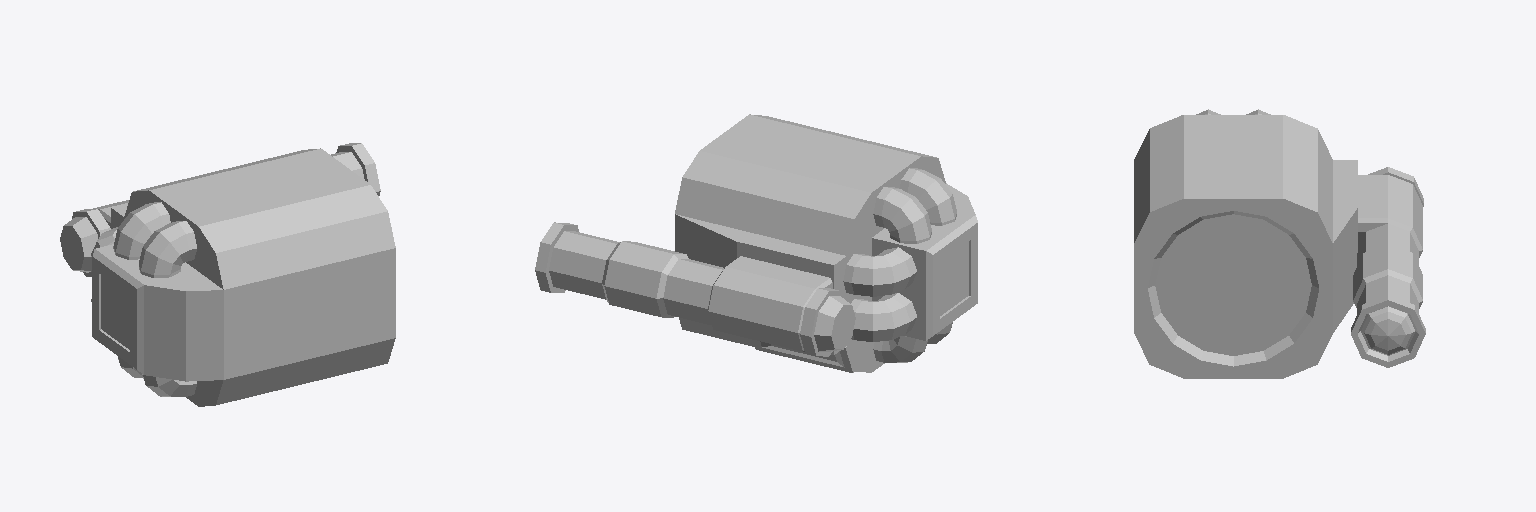
The model's file is Base_Missil_L.obj.
3 renders of one model, left to right at view 1: azimuth 30°, elevation 25°; view 2: azimuth 150°, elevation 25°; view 3: azimuth 270°, elevation 25°, orthographic.
Parts seen in each view (by area): view 1: Base_Missel_L_Trackless_Engine.001_Cylinder.006; view 2: Base_Missel_L_Trackless_Engine.001_Cylinder.006; view 3: Base_Missel_L_Trackless_Engine.001_Cylinder.006.
Boxes of the visible parts, x1,y1,x2,y2 form: Base_Missel_L_Trackless_Engine.001_Cylinder.006: [60, 143, 395, 406]; Base_Missel_L_Trackless_Engine.001_Cylinder.006: [535, 114, 977, 372]; Base_Missel_L_Trackless_Engine.001_Cylinder.006: [1134, 109, 1425, 378].
Size of the model in its own units: 1.16 by 0.6066 by 0.8898.